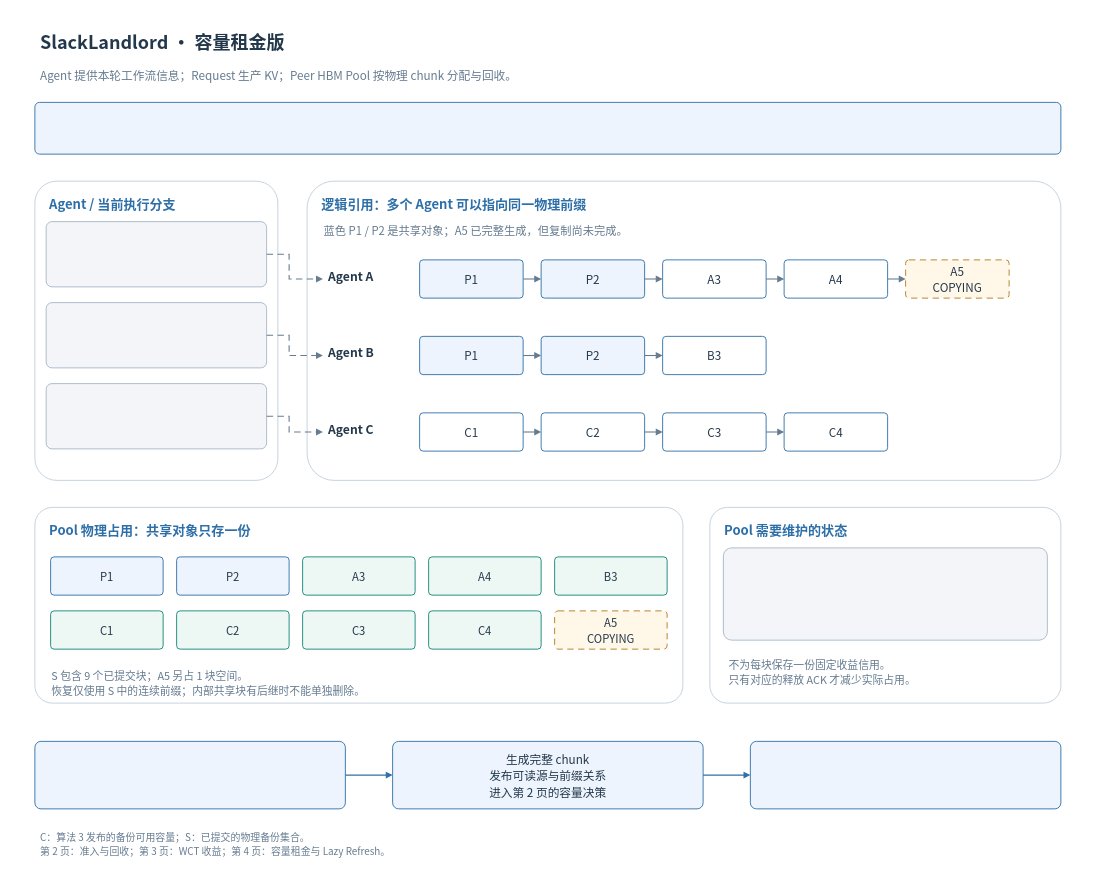
This 1095x884 diagram has some shape labels left out. The shapes that lost their labels are listed below. From the top down, each one's centre as x and y in pixels, then its label:
(547,128): 算法 3 给定可用容量 C；算法 2 比较当前备份的 WCT 收益。 本版使用容量价格 λ；旧版累计 L、租值键 H 与分账续租不在本图中执行。
(156,254): Agent A · 第 3 轮 本轮 Slack = 8 ms KV 路径 + 工作流节点 + 版本
(156,335): Agent B · 第 2 轮 本轮 Slack = 3 ms KV 路径 + 工作流节点 + 版本
(156,416): Agent C · 第 1 轮 本轮 Slack = 12 ms KV 路径 + 工作流节点 + 版本
(885,593): 容量与物理分配记录 COMMITTED / COPYING / RETIRING 固定读取引用与分配代次 Agent 前缀、工作流版本、收益缓存
(190,775): 新请求开始 替换该 Agent 的本轮输入 本轮生成过程中不调整 Slack
(905,775): 备份提交 / 读取结束 更新恢复前沿与固定引用 合并新事件，再次决策
